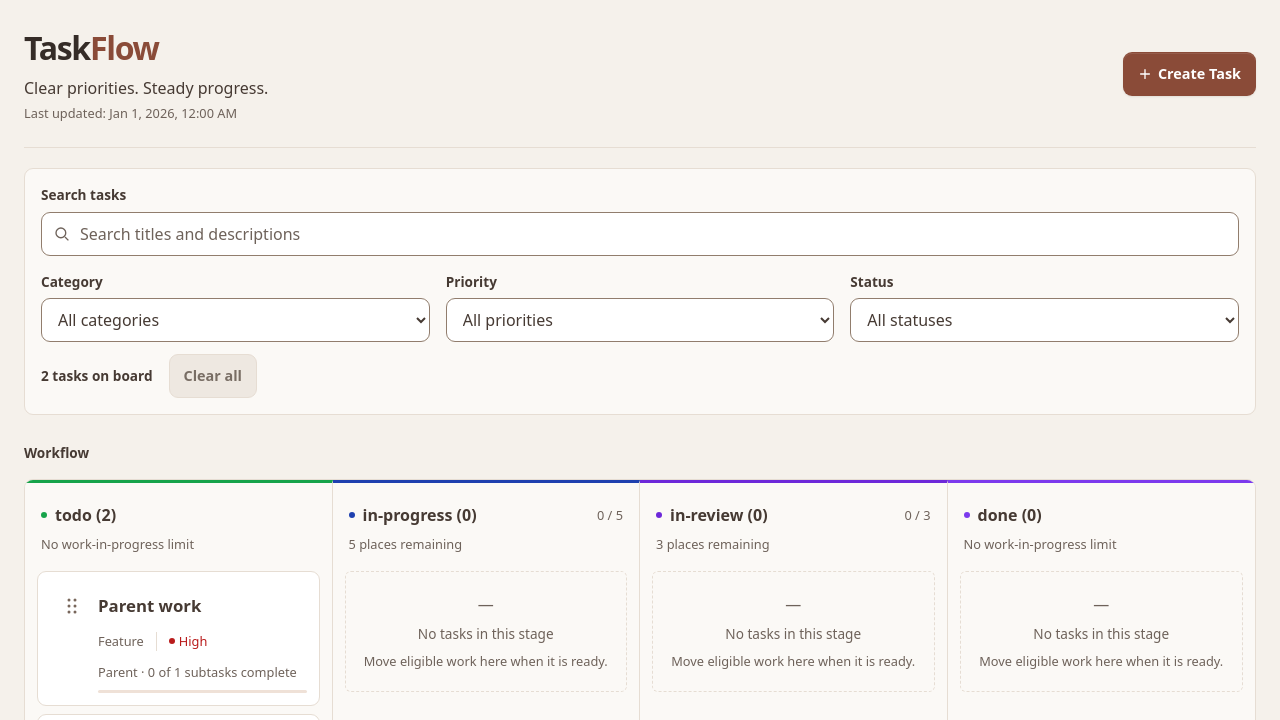
Scenario: keeps filter focus and resets to search rather than the page top
Type "Parent work" into the search field labelled "Search tasks" at (640,234), box 41,212 -> 1239,256
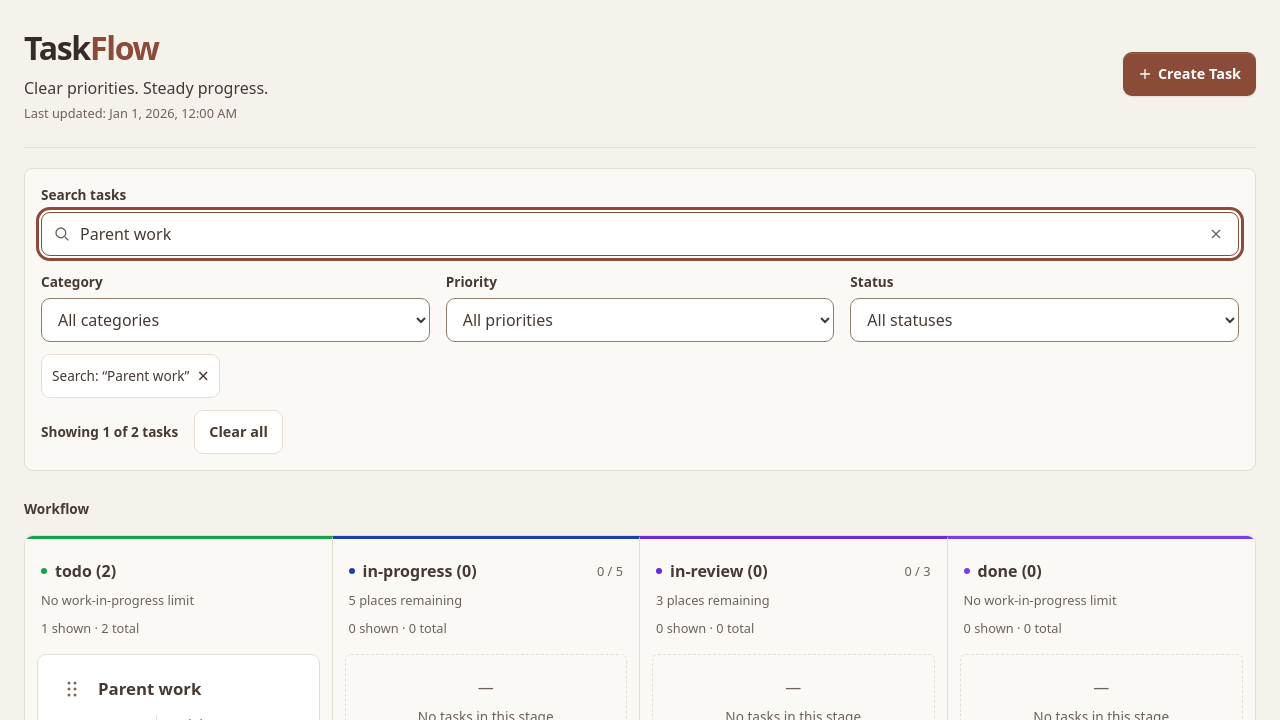
Select "High" in the dropdown labelled "Priority" at (640,320), box 446,298 -> 834,342
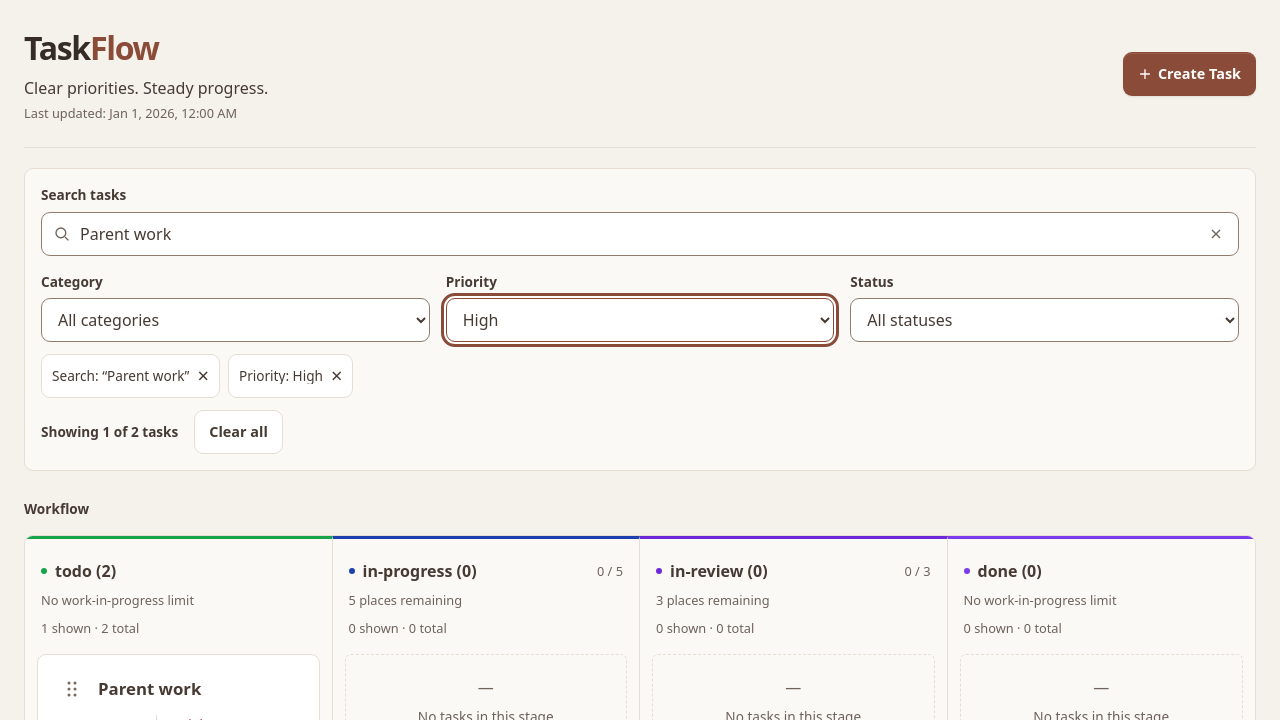
Click the button with aria-label "Clear all search and filters" at (239,432), box 194,410 -> 283,454
(page scrolled)
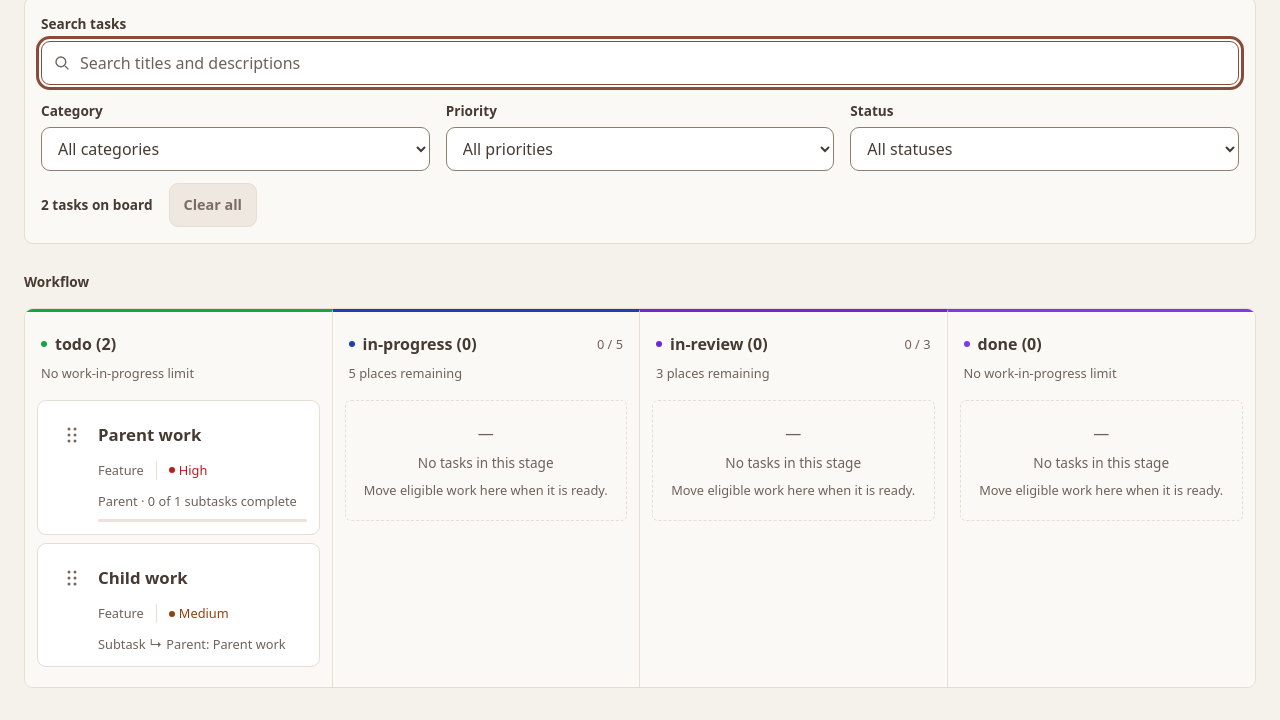
Expected: the button with aria-label "Open task Child work" is shown, 98,556 -> 306,600
